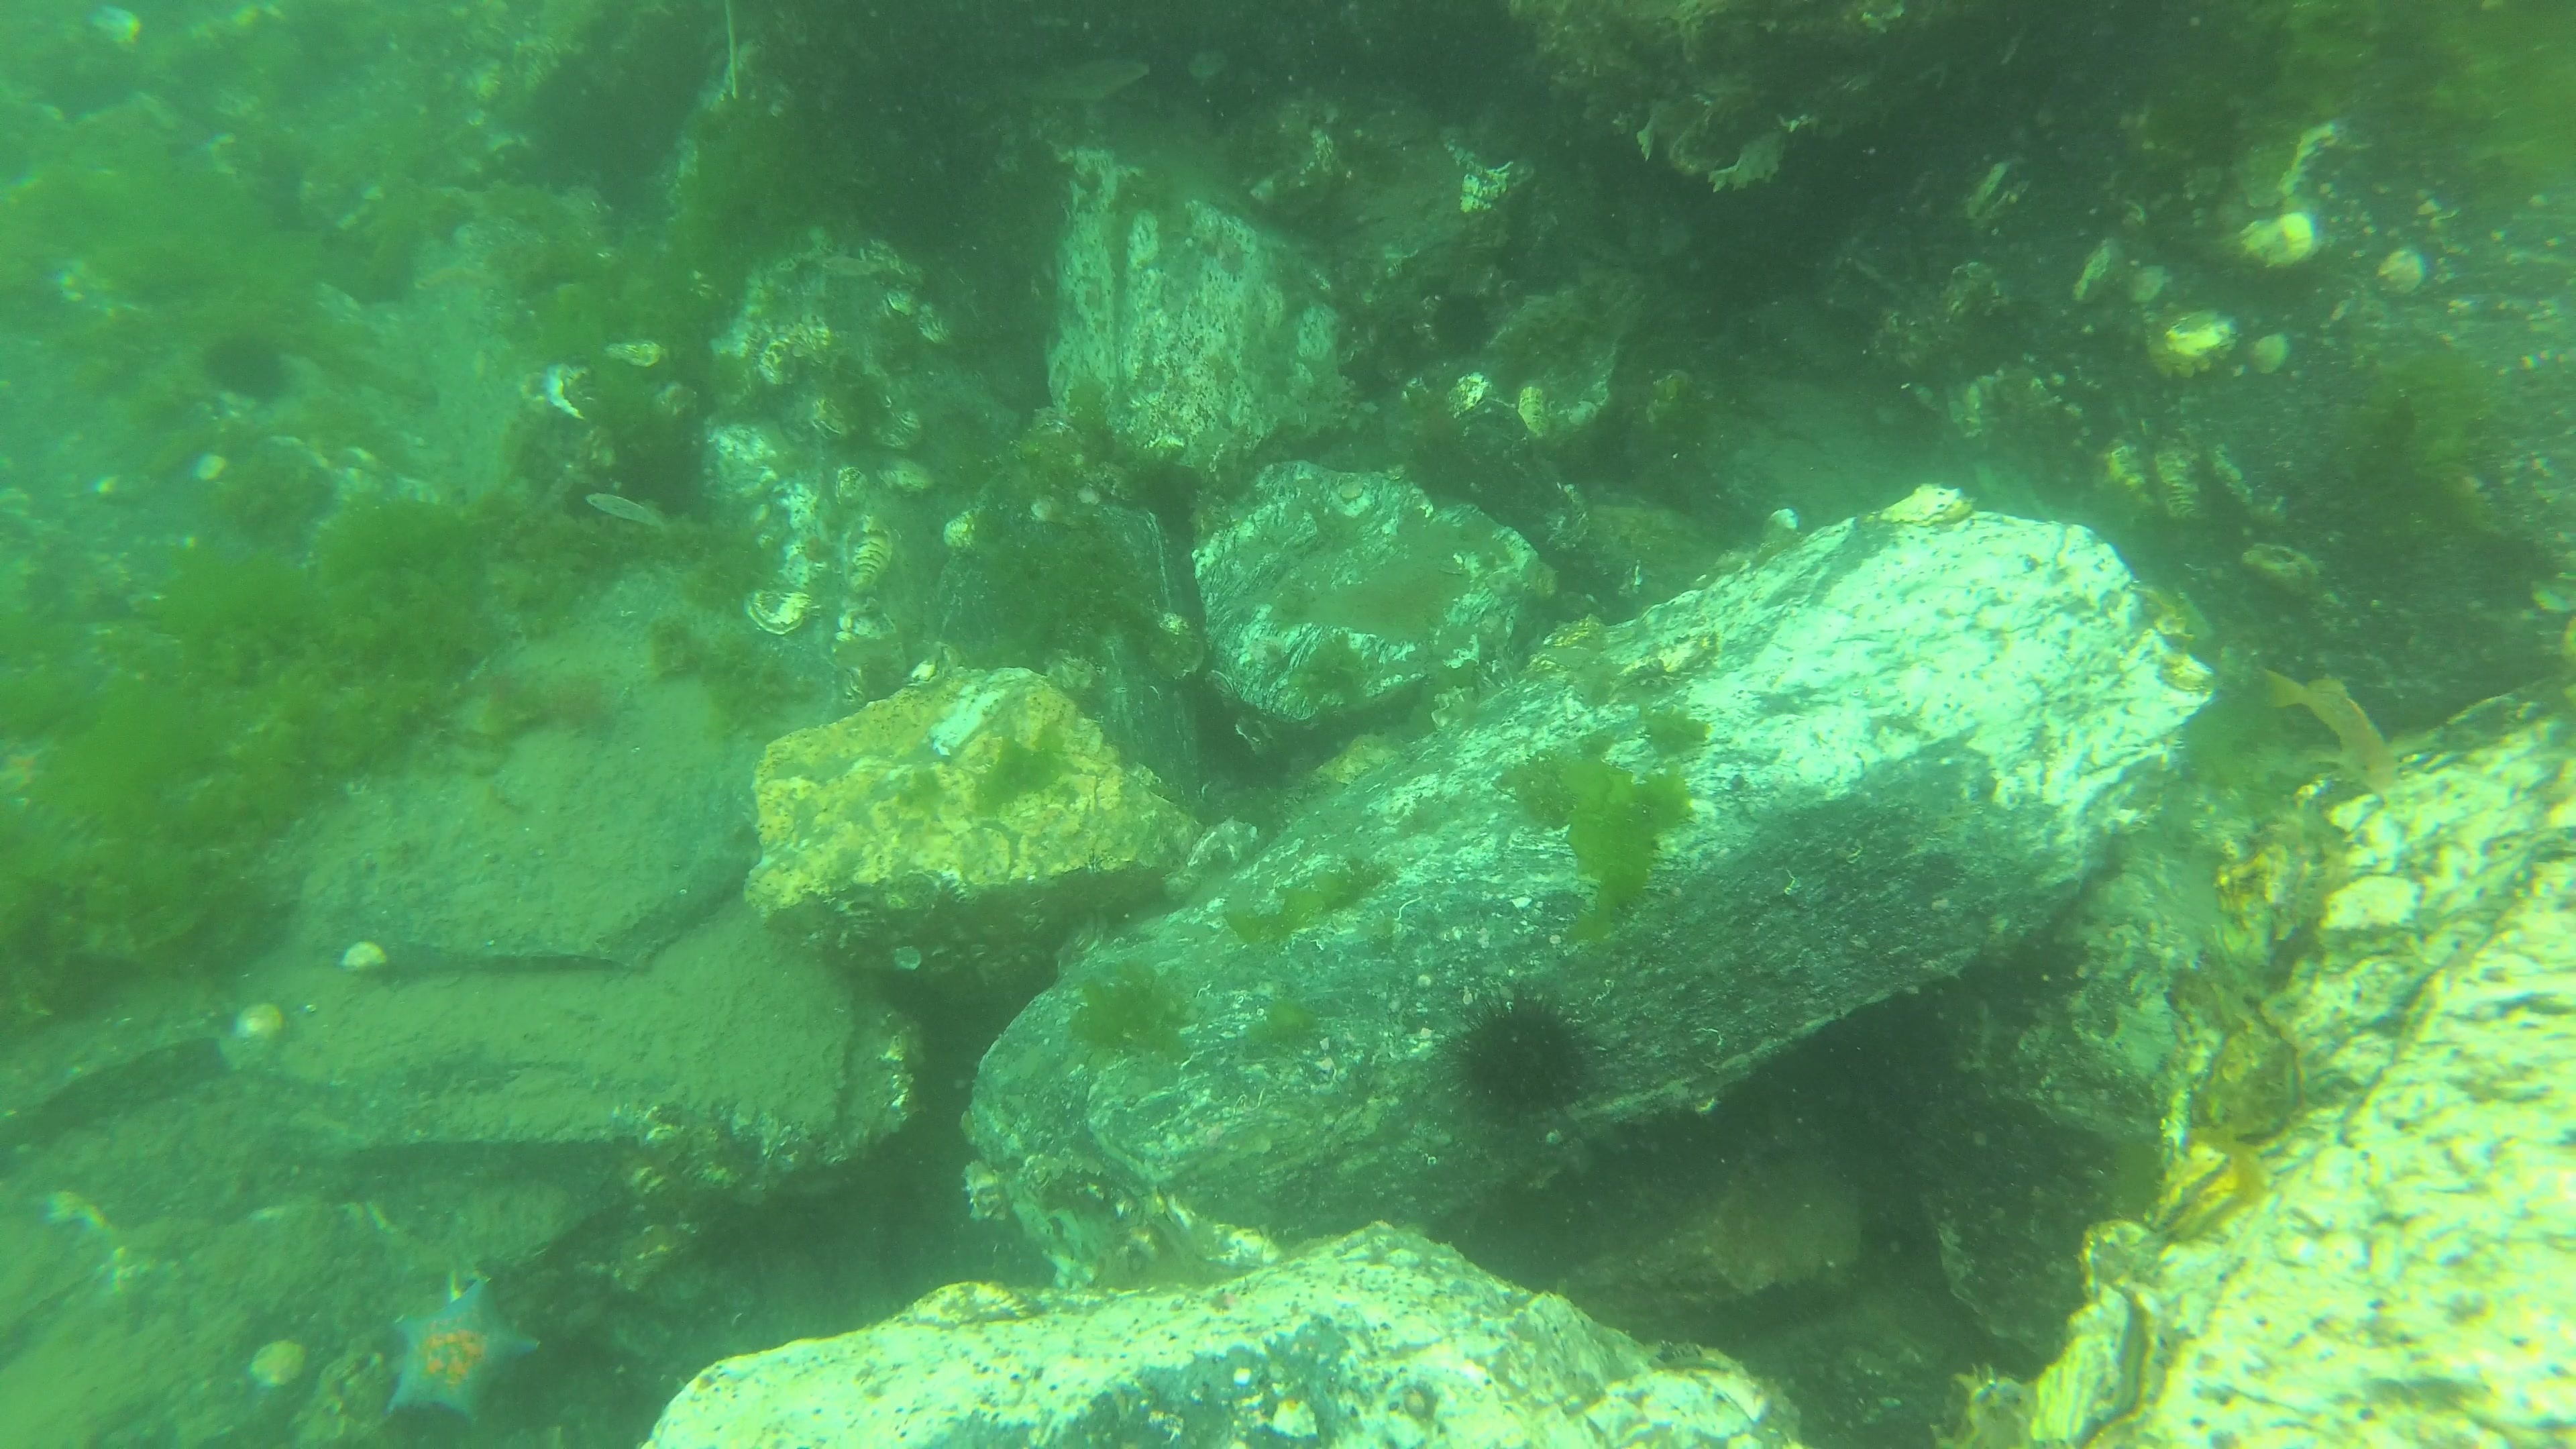echinus: (1456, 989, 1603, 1123), (200, 331, 283, 405), (1435, 294, 1491, 354)
starfish: (386, 1276, 533, 1419)
